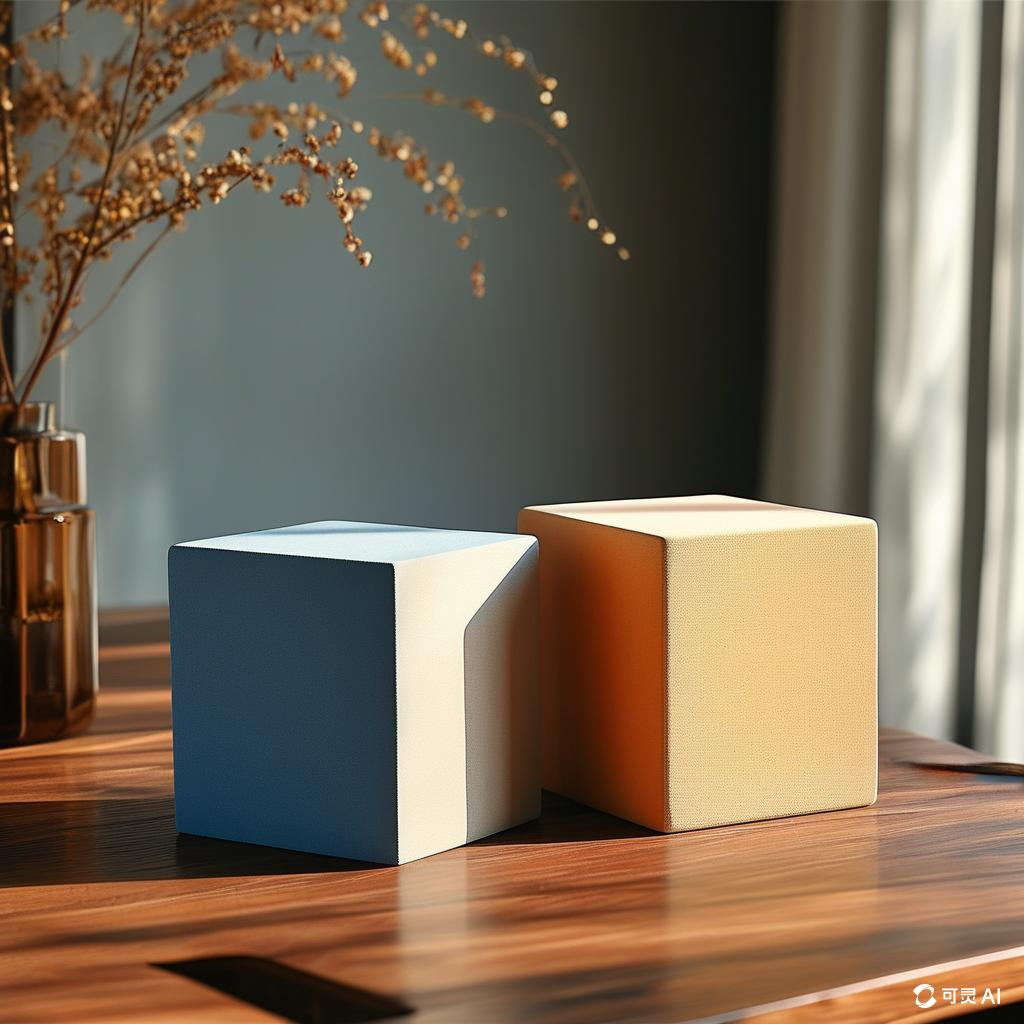cube: (166, 518, 542, 865), (517, 491, 879, 834)
